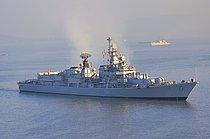MIL_Ship: (15, 41, 199, 102)
